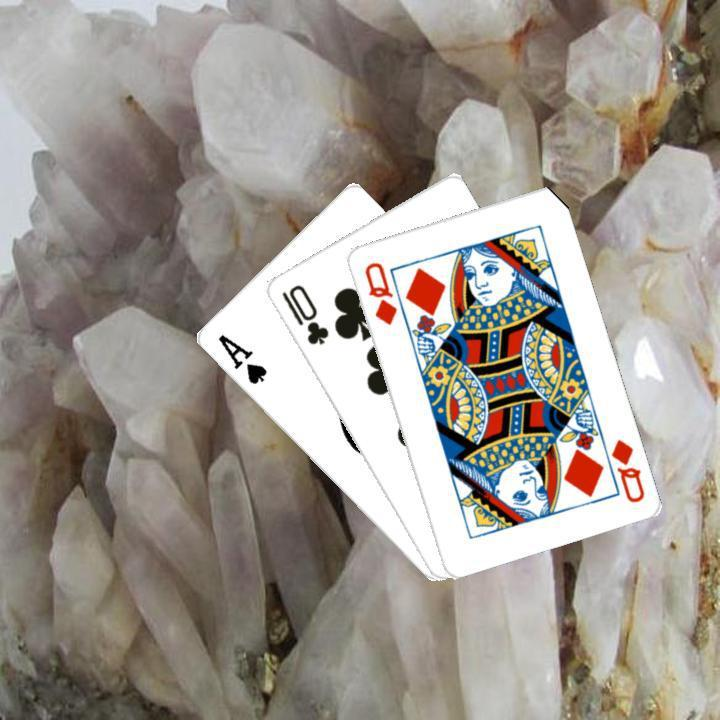10: (276, 279, 331, 347)
A: (213, 330, 269, 387)
Q: (606, 434, 646, 505), (359, 257, 399, 327)
